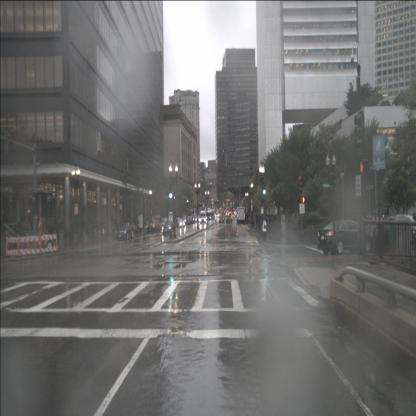cone: (16, 232, 21, 258), (38, 232, 43, 255), (4, 232, 8, 257), (55, 232, 60, 252)
